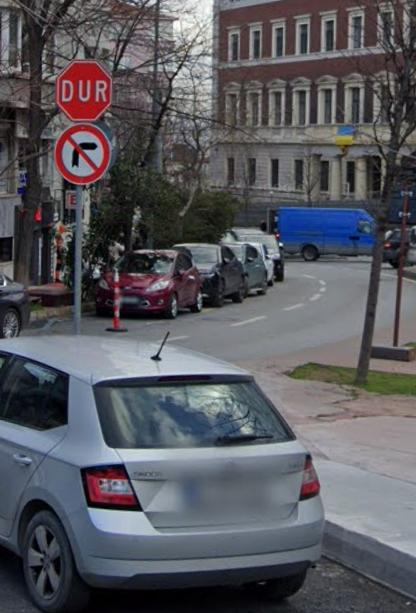rightturnsareforbidden: (57, 124, 109, 185)
stop: (56, 61, 110, 120)
